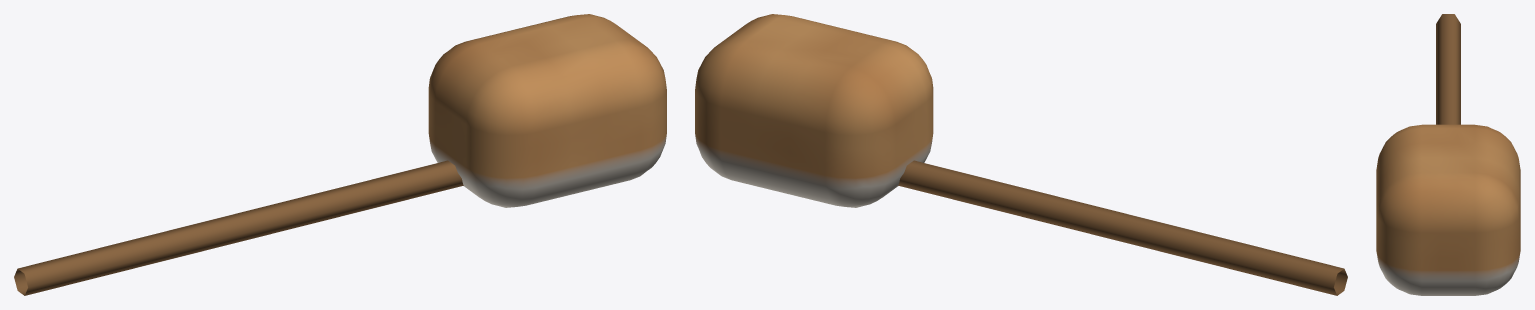
File: item_ic_marsh_toasted.glb
3 renders of one model, left to right at view 1: azimuth 30°, elevation 25°; view 2: azimuth 150°, elevation 25°; view 3: azimuth 270°, elevation 25°, orthographic. The views are drawn at different scales.
Visible parts, largest first — view 1: item_ic_marsh_toasted_main; view 2: item_ic_marsh_toasted_main; view 3: item_ic_marsh_toasted_main.
Boxes of the visible parts, x1,y1,x2,y2 form: item_ic_marsh_toasted_main: (14, 14, 666, 295); item_ic_marsh_toasted_main: (695, 14, 1347, 295); item_ic_marsh_toasted_main: (1376, 14, 1520, 295).
Size of the model in its own units: 0.305 by 0.064 by 0.07.
